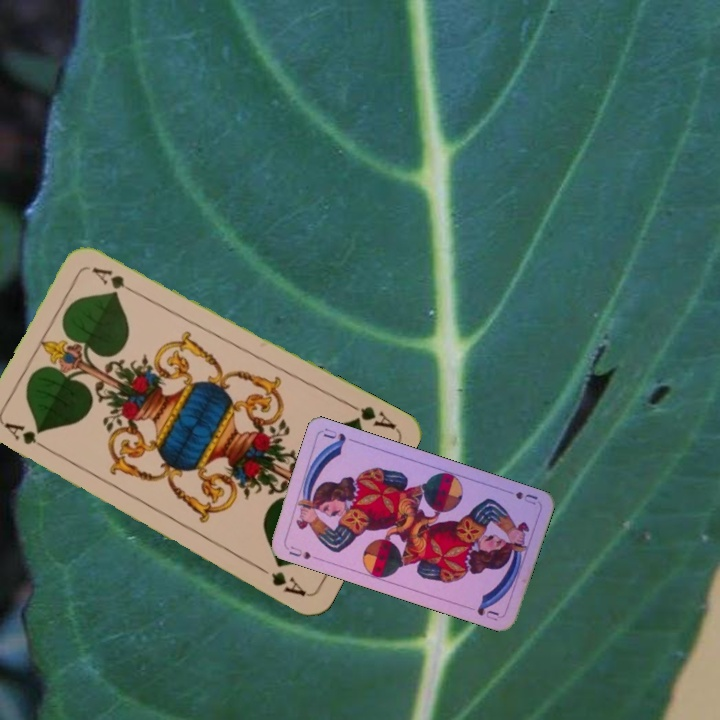GA: (1, 419, 55, 456), (343, 399, 399, 432)
SU: (501, 485, 540, 507), (282, 542, 314, 562)
